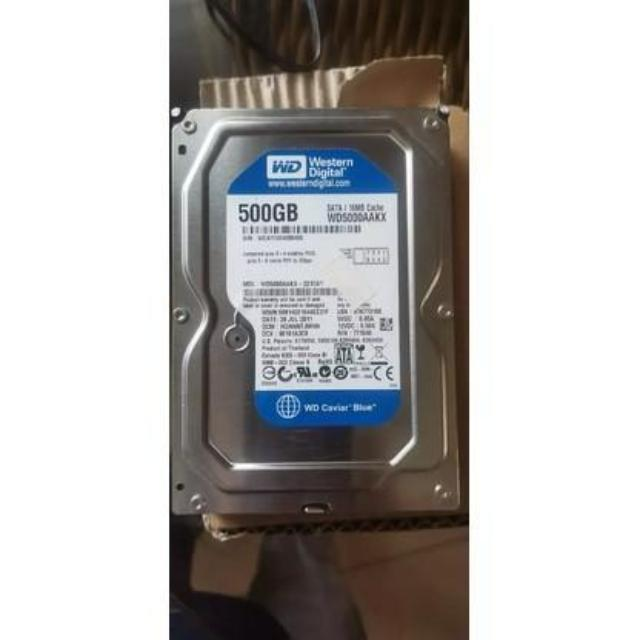DISK: (165, 102, 467, 524)
